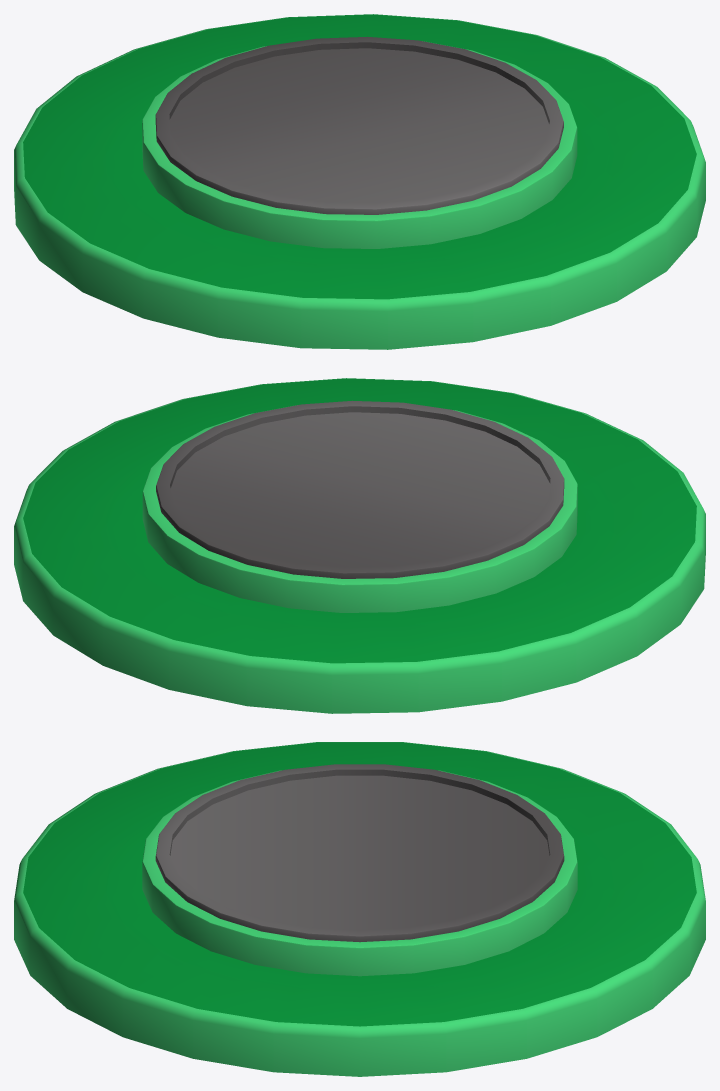
Rendered from M_Jump_area_3.fbx.
3 views of the same model, one above another, from view 1: azimuth 30°, elevation 25°; view 2: azimuth 150°, elevation 25°; view 3: azimuth 270°, elevation 25° (orthographic).
Parts seen in each view (by area): view 1: M_Jump_area_3; view 2: M_Jump_area_3; view 3: M_Jump_area_3.
Boxes of the visible parts, x1,y1,x2,y2 form: M_Jump_area_3: [14, 14, 705, 349]; M_Jump_area_3: [14, 378, 705, 713]; M_Jump_area_3: [14, 742, 705, 1076].
Bounding box in the file's own units: 2293 × 296 × 2297.
